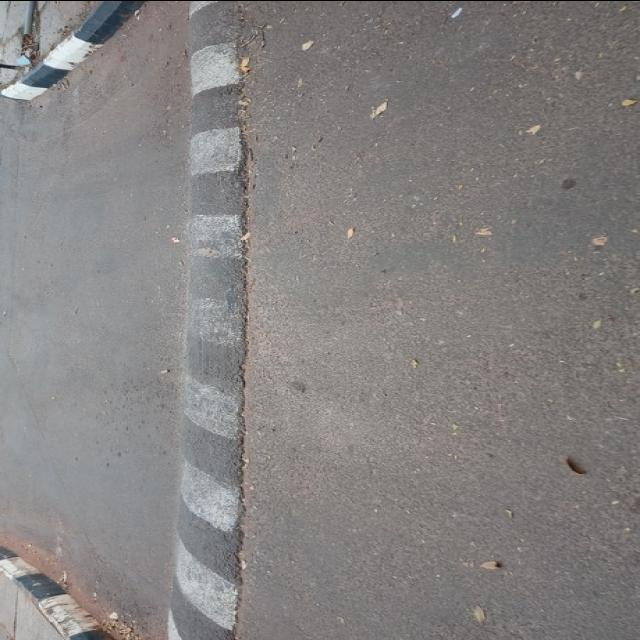speedbreaker: (157, 0, 279, 640)
